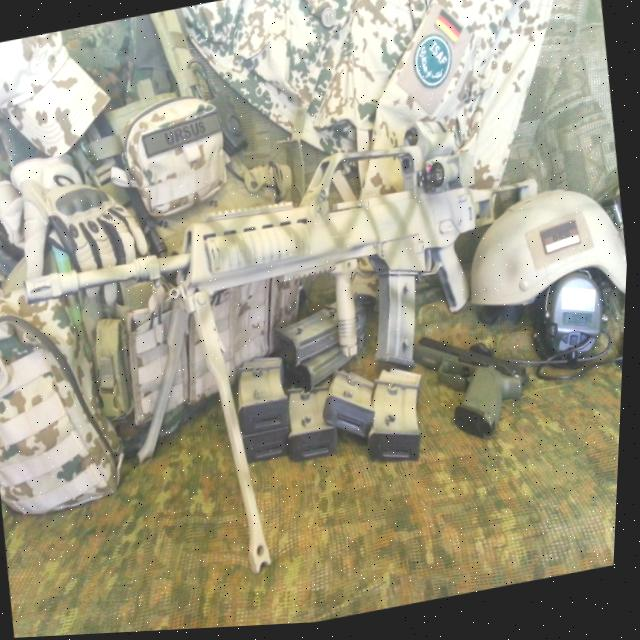firearm: (10, 119, 564, 433)
pistol: (409, 322, 541, 457)
